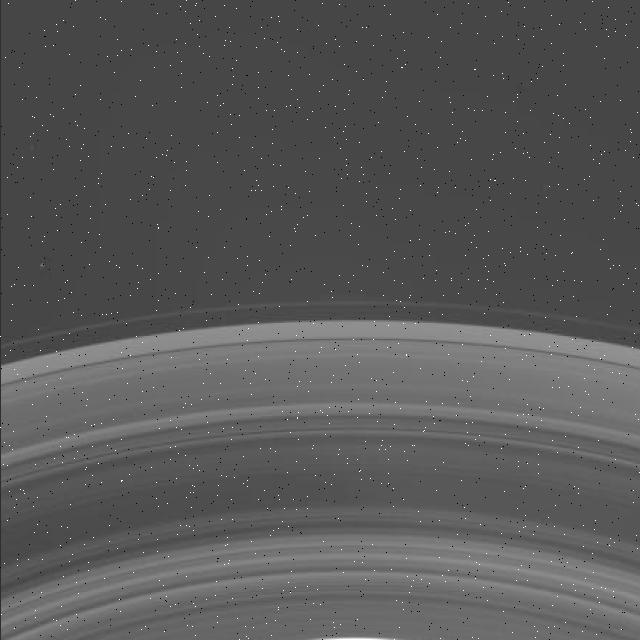Saturn: (0, 301, 640, 640)
